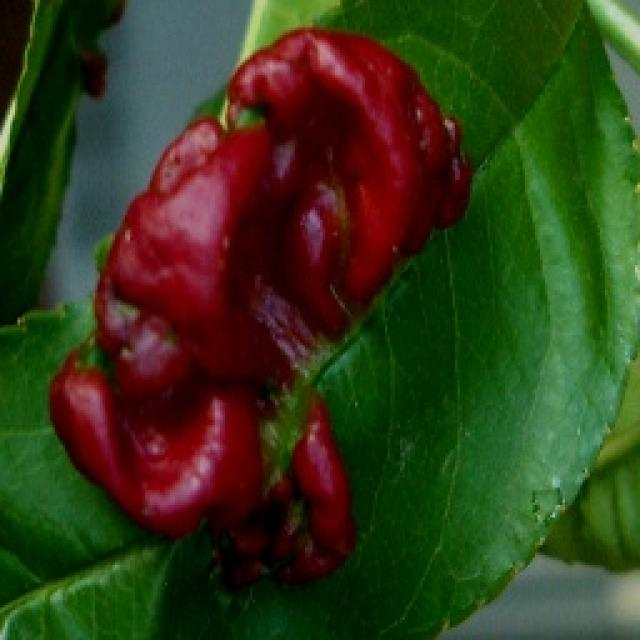peach_leaf_curl: (45, 22, 475, 590)
